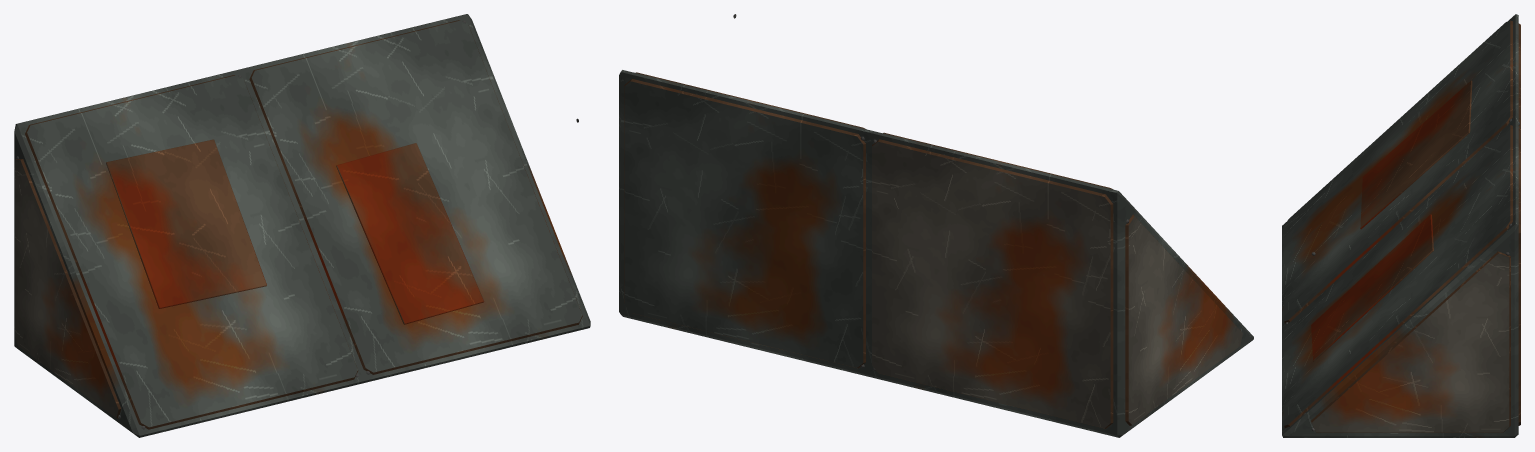
The model's file is R4B_WideWedge.glb.
The picture shows the model from 3 angles, left to right: view 1: azimuth 30°, elevation 25°; view 2: azimuth 150°, elevation 25°; view 3: azimuth 270°, elevation 25°; orthographic projection. The views are drawn at different scales.
Visible parts, largest first — view 1: R4B_WideWedge; view 2: R4B_WideWedge; view 3: R4B_WideWedge.
Part boxes in pixels (left/top/right/bottom): R4B_WideWedge: left=14, top=14, right=590, bottom=437; R4B_WideWedge: left=619, top=14, right=1253, bottom=437; R4B_WideWedge: left=1282, top=14, right=1520, bottom=437.
Bounding box in the file's own units: 1.07 × 0.5023 × 0.5023.
4 materials, 4 textured.
